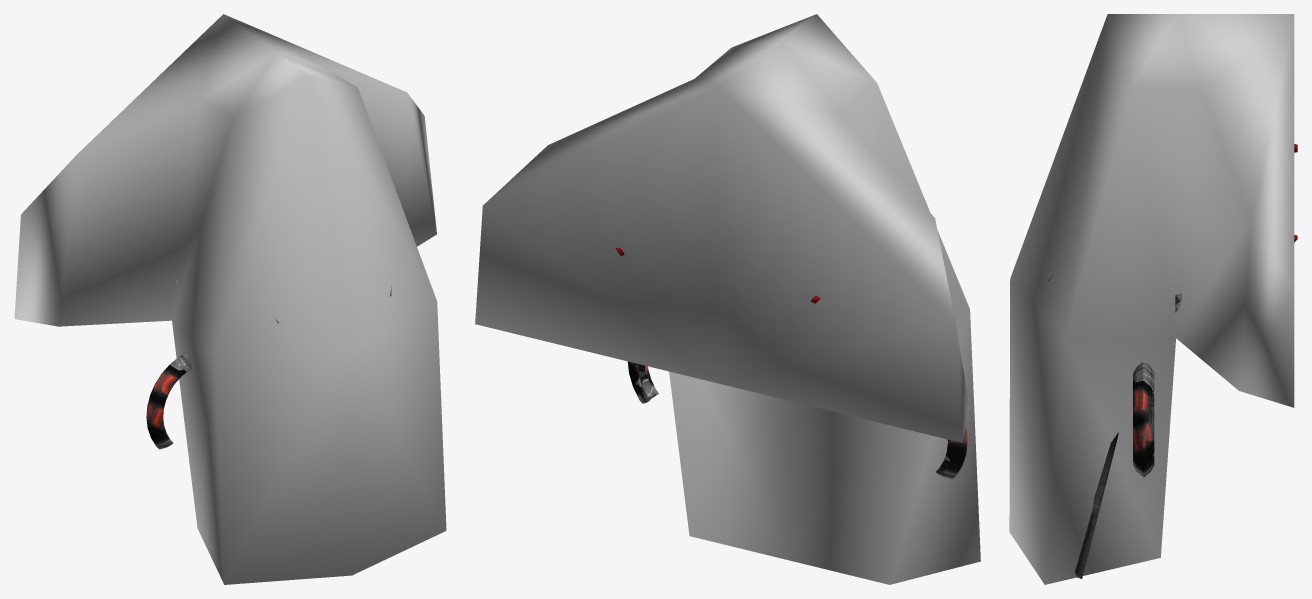
File: alien_heavydropship.fbx
3 renders of one model, left to right at view 1: azimuth 30°, elevation 25°; view 2: azimuth 150°, elevation 25°; view 3: azimuth 270°, elevation 25°, orthographic. The views are drawn at different scales.
Visible parts, largest first — view 1: 0000_body, 0003_l_thruster; view 2: 0000_body, 0003_l_thruster, 0005_r_thruster; view 3: 0000_body, 0005_r_thruster, 0006_r_tail.
Boxes of the visible parts, <box> form: 0000_body: <box>14,14,446,584</box>; 0003_l_thruster: <box>146,352,191,449</box>; 0000_body: <box>475,14,980,584</box>; 0003_l_thruster: <box>936,427,967,479</box>; 0005_r_thruster: <box>627,361,658,403</box>; 0000_body: <box>1009,14,1294,584</box>; 0005_r_thruster: <box>1133,361,1154,477</box>; 0006_r_tail: <box>1075,293,1182,578</box>.
Size of the model in its own units: 23.23 by 24.9 by 12.55.
